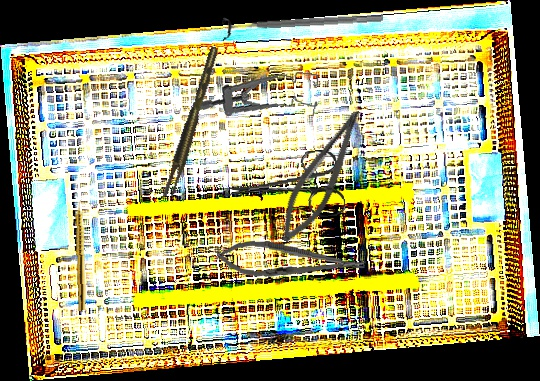Fixation Ring: (221, 5, 384, 42)
Handpiece: (74, 199, 89, 311)
Iris Scissors: (219, 147, 347, 228)
Micro Scissor: (270, 99, 371, 252)
Needle Holder: (215, 237, 366, 285)
Speculum: (192, 59, 322, 127)
Tissue Forceps: (157, 46, 227, 200)
